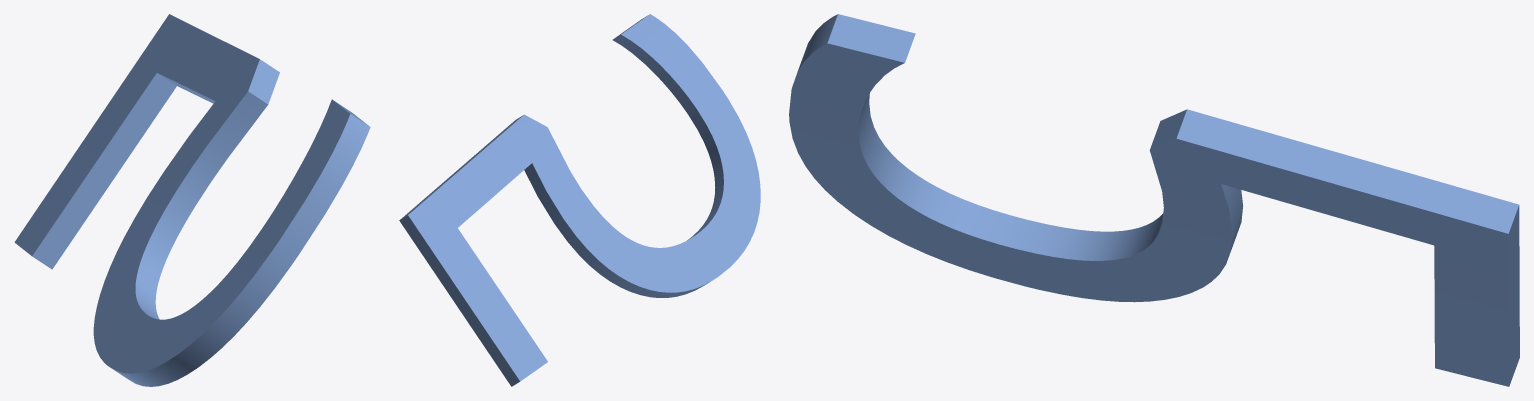
File: New_Number_5.gltf
The picture shows the model from 3 angles, left to right: view 1: azimuth 30°, elevation 25°; view 2: azimuth 150°, elevation 25°; view 3: azimuth 270°, elevation 25°; orthographic projection. The views are drawn at different scales.
Visible parts, largest first — view 1: Part 680; view 2: Part 680; view 3: Part 680.
Boxes of the visible parts, left/top/right/bottom form: Part 680: left=14, top=14, right=370, bottom=386; Part 680: left=399, top=14, right=760, bottom=386; Part 680: left=789, top=14, right=1519, bottom=386.
Bounding box in the file's own units: 0.00304 × 0.0034 × 0.00546.
